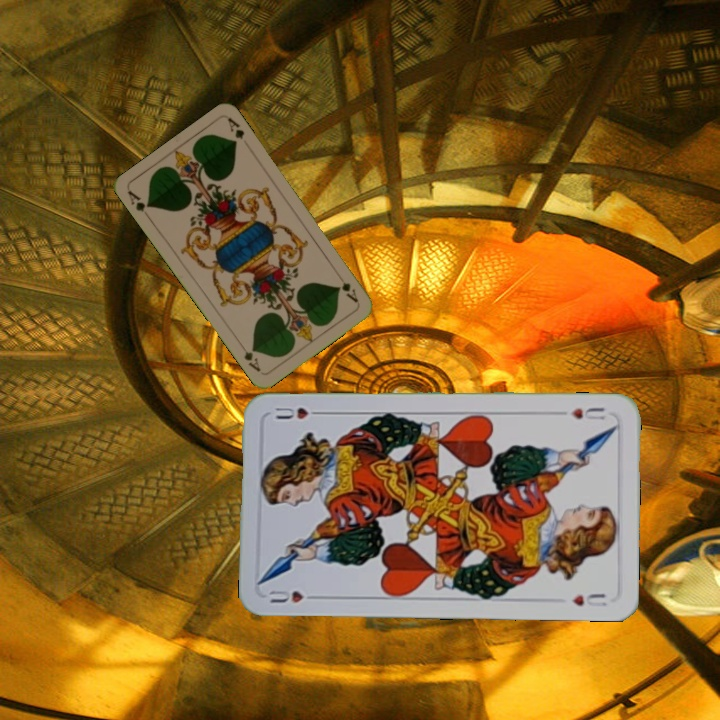GA: (124, 187, 154, 222), (333, 270, 361, 305)
HU: (265, 586, 322, 606), (567, 403, 608, 423)
